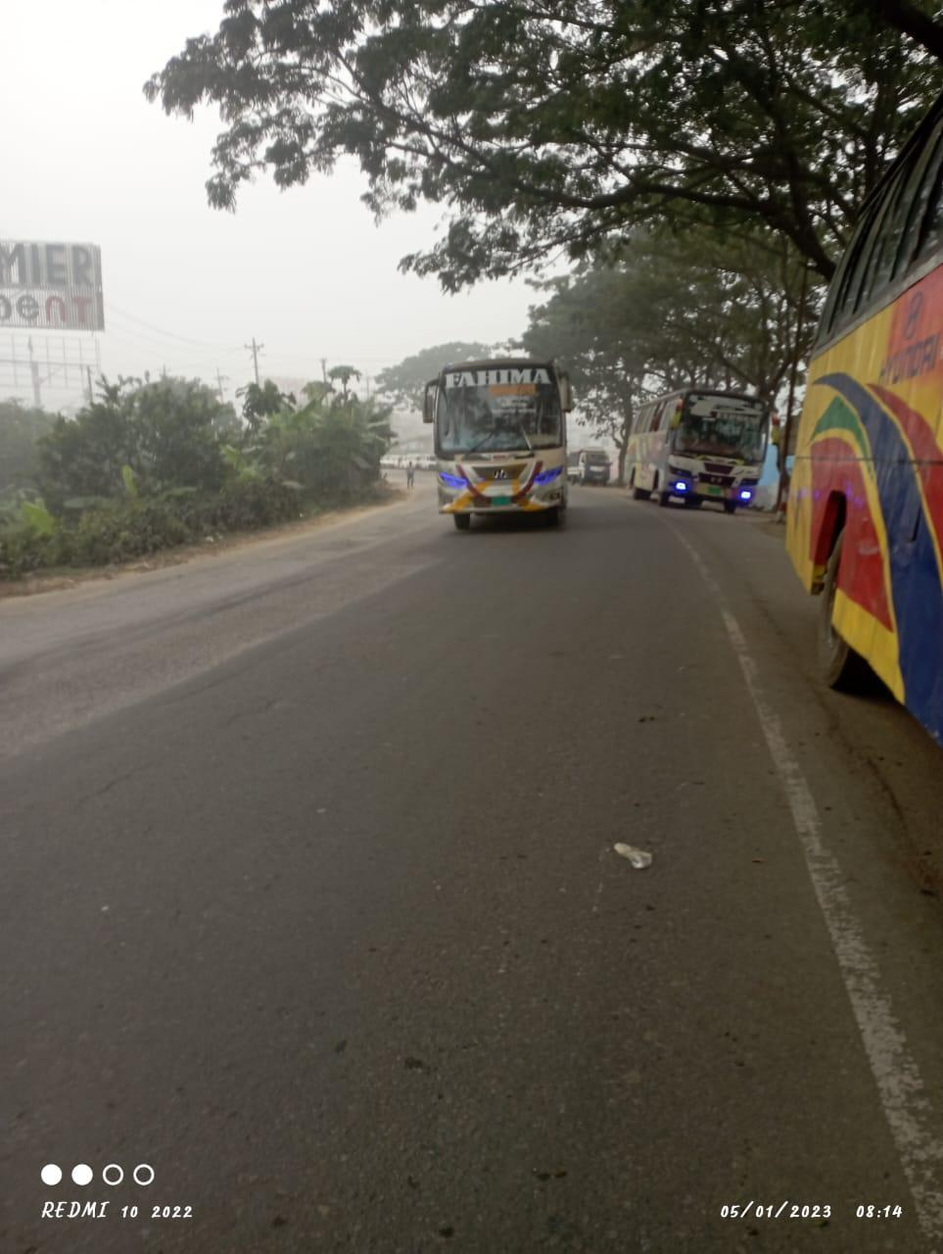Bus: (774, 81, 943, 793), (407, 349, 595, 526), (619, 376, 769, 526)
